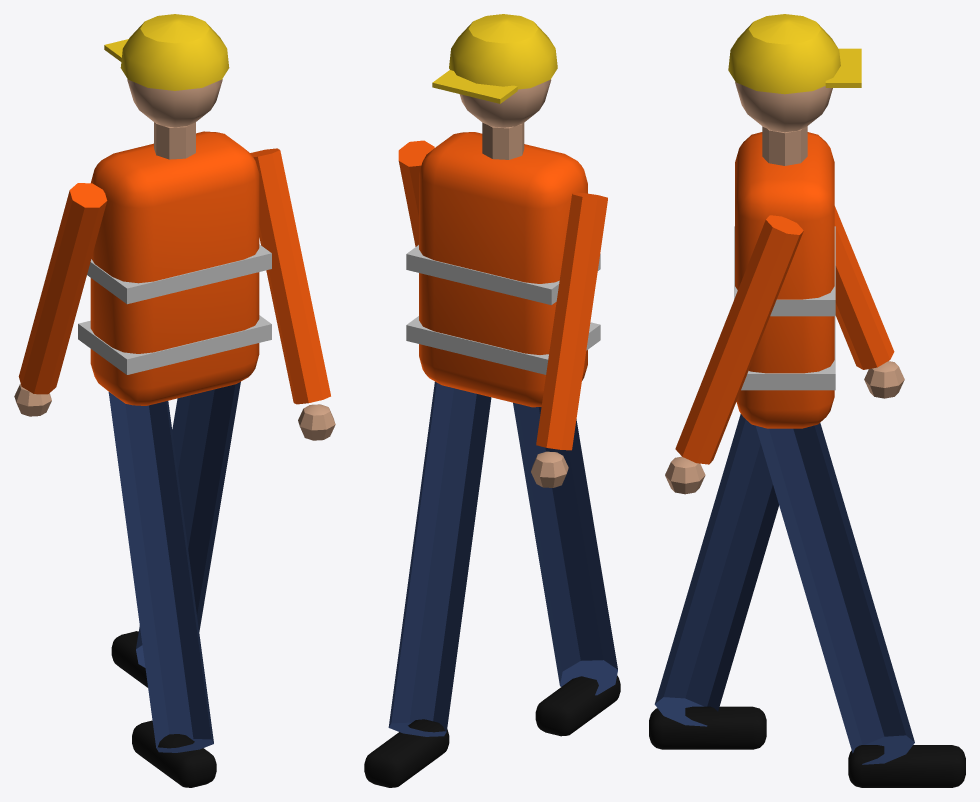
The model's file is people.crew.operative_walking.glb.
3 views of the same model, side by side, from view 1: azimuth 30°, elevation 25°; view 2: azimuth 150°, elevation 25°; view 3: azimuth 270°, elevation 25° (orthographic). The views are drawn at different scales.
Parts seen in each view (by area): view 1: main__hivis_orange, main__denim, main__steel_stainless, main__plastic_yellow, main__skin, main__plastic_black; view 2: main__hivis_orange, main__denim, main__plastic_yellow, main__plastic_black, main__steel_stainless, main__skin; view 3: main__denim, main__hivis_orange, main__plastic_black, main__plastic_yellow, main__skin, main__steel_stainless.
Boxes of the visible parts, box(x1,y1,x2,y2) form: main__hivis_orange: box(18, 131, 330, 405); main__denim: box(108, 381, 240, 752); main__steel_stainless: box(78, 244, 271, 374); main__plastic_yellow: box(104, 14, 229, 90); main__skin: box(14, 79, 335, 440); main__plastic_black: box(111, 631, 216, 787); main__hivis_orange: box(398, 132, 607, 450); main__denim: box(388, 381, 617, 736); main__plastic_yellow: box(432, 14, 557, 103); main__plastic_black: box(364, 675, 620, 787); main__steel_stainless: box(406, 245, 600, 374); main__skin: box(459, 79, 568, 487); main__denim: box(654, 413, 914, 764); main__hivis_orange: box(675, 132, 894, 464); main__plastic_black: box(649, 706, 965, 787); main__plastic_yellow: box(728, 14, 861, 94); main__skin: box(665, 82, 904, 494); main__steel_stainless: box(734, 226, 835, 390).
Size of the model in its own units: 0.59 by 1.81 by 0.7.
